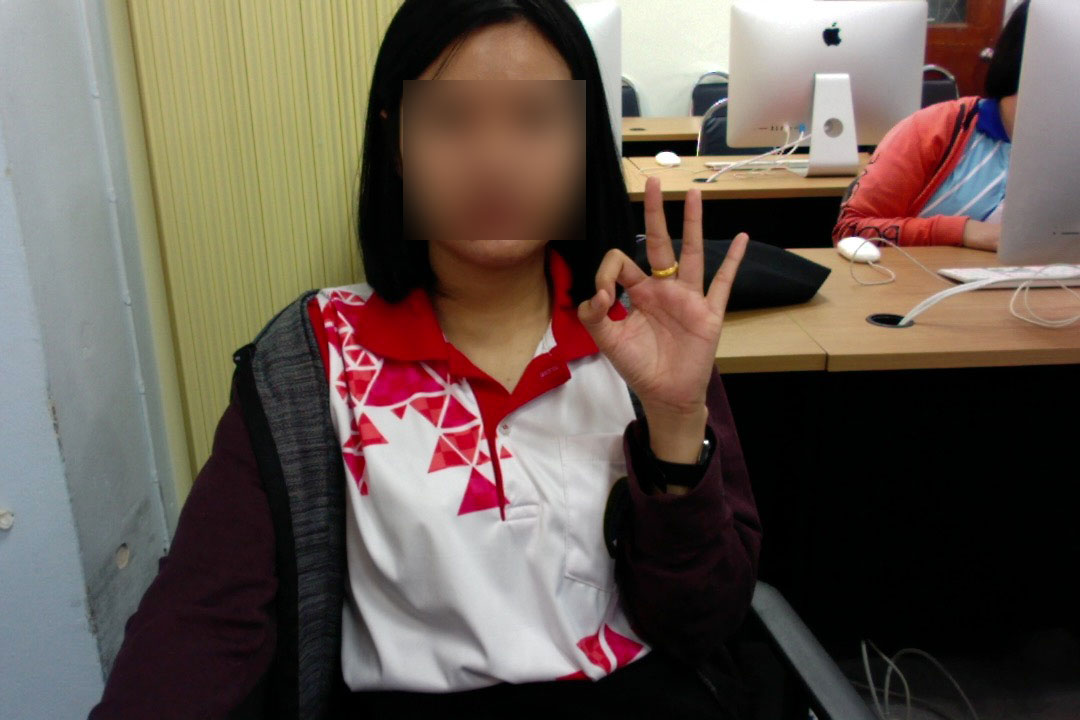for: (563, 171, 758, 420)
